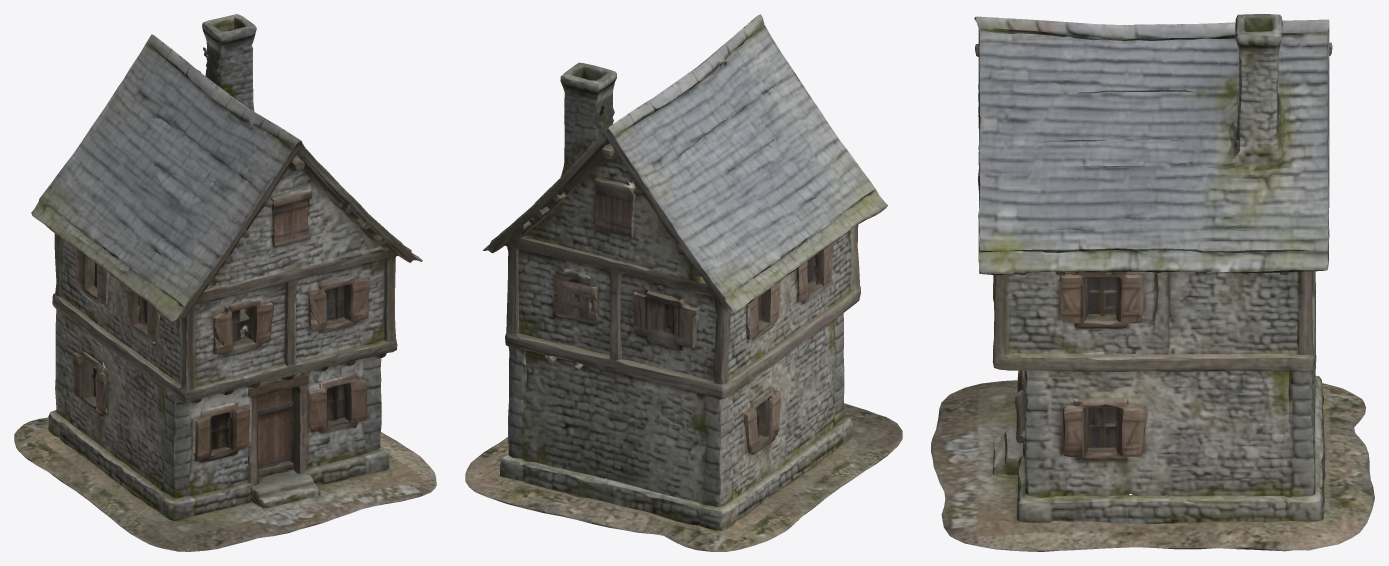
Rendered from stone_house.glb.
3 renders of one model, left to right at view 1: azimuth 30°, elevation 25°; view 2: azimuth 150°, elevation 25°; view 3: azimuth 270°, elevation 25°, orthographic. The views are drawn at different scales.
Visible parts, largest first — view 1: geometry_0; view 2: geometry_0; view 3: geometry_0.
Part boxes in pixels (left/top/right/bottom): geometry_0: left=14, top=14, right=436, bottom=551; geometry_0: left=465, top=14, right=902, bottom=551; geometry_0: left=931, top=14, right=1374, bottom=551.
Size of the model in its own units: 7.12 by 9 by 7.68.
Materials: 1 (1 with a texture image).
